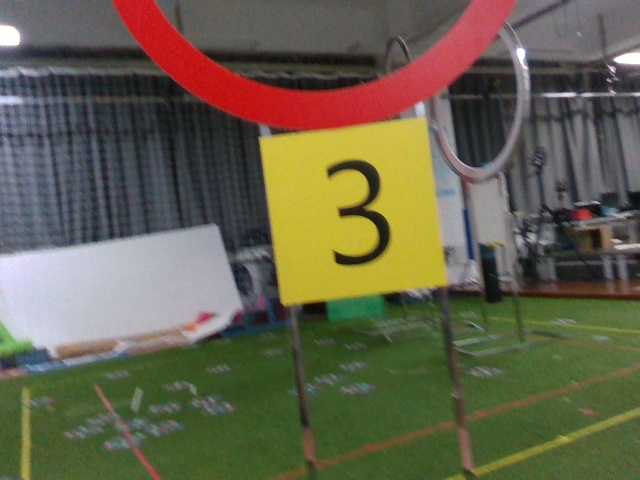target: (272, 136, 437, 287)
